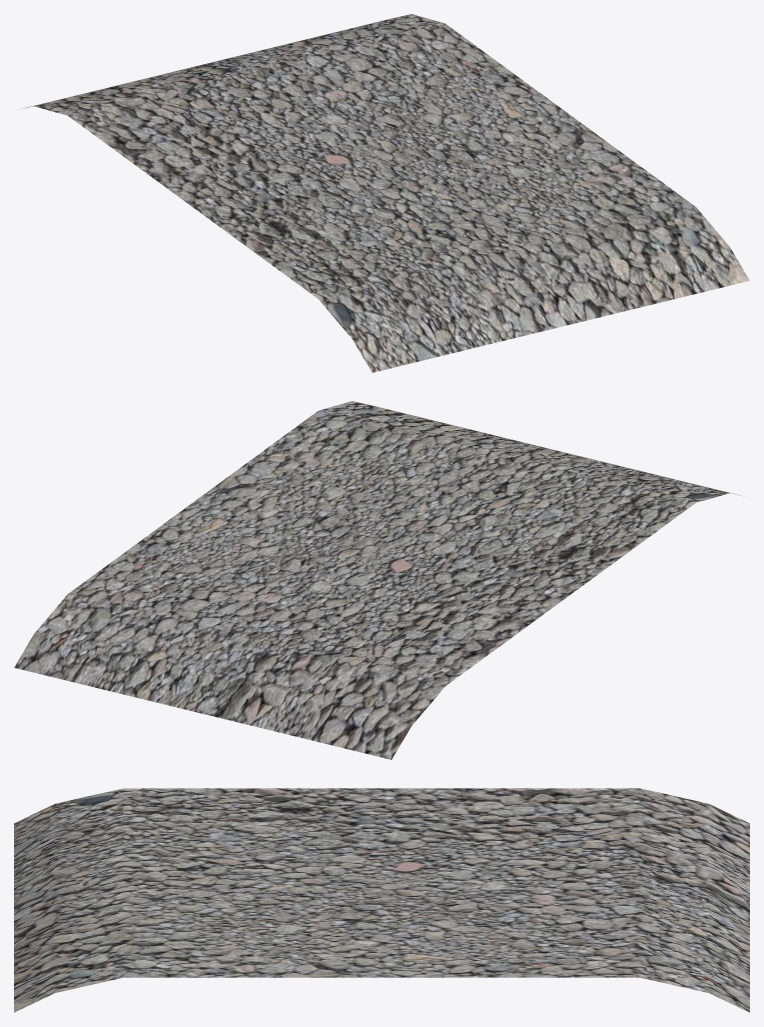
File: GravelGround (2).fbx
3 renders of one model, top to bottom at view 1: azimuth 30°, elevation 25°; view 2: azimuth 150°, elevation 25°; view 3: azimuth 270°, elevation 25°, orthographic. The views are drawn at different scales.
Parts seen in each view (by area): view 1: GravelGround__2_; view 2: GravelGround__2_; view 3: GravelGround__2_.
Boxes of the visible parts, x1,y1,x2,y2 form: GravelGround__2_: (23,14,749,372); GravelGround__2_: (14,401,740,759); GravelGround__2_: (14,788,749,1012).
Size of the model in its own units: 100 by 8.68 by 164.
